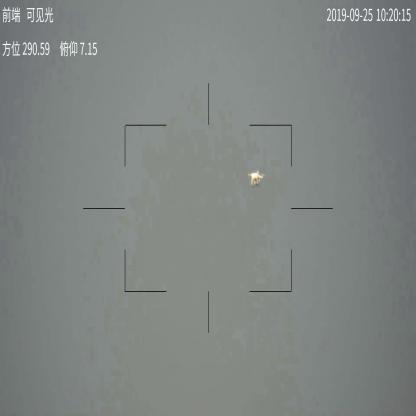uav: (247, 169, 266, 188)
